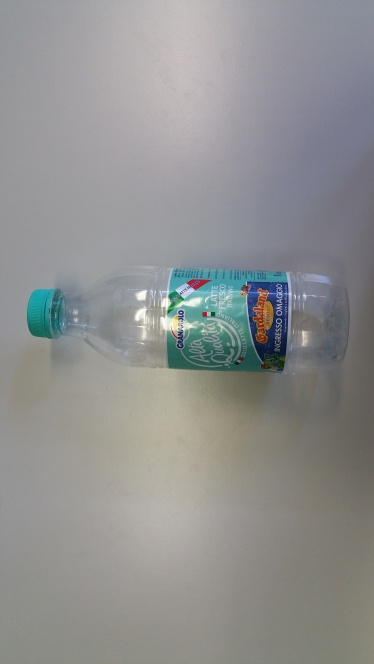bottle: (26, 263, 361, 384)
